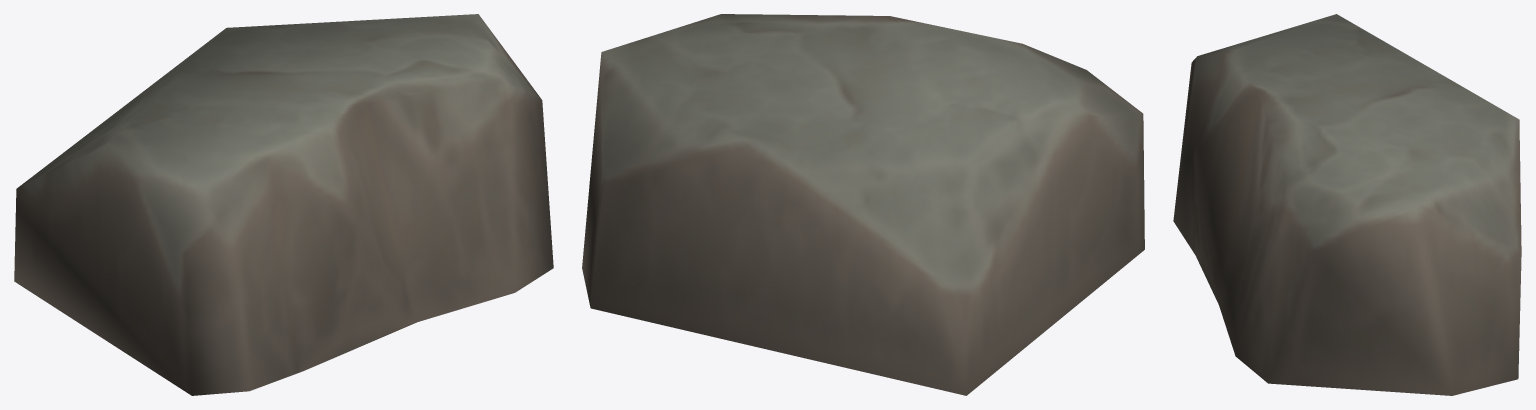
Rendered from SM_FW01_Floor_Debris_05.fbx.
The picture shows the model from 3 angles, left to right: view 1: azimuth 30°, elevation 25°; view 2: azimuth 150°, elevation 25°; view 3: azimuth 270°, elevation 25°; orthographic projection. The views are drawn at different scales.
Visible parts, largest first — view 1: SM_FW01_Floor_Debris_05; view 2: SM_FW01_Floor_Debris_05; view 3: SM_FW01_Floor_Debris_05.
Boxes of the visible parts, box(x1,y1,x2,y2) form: SM_FW01_Floor_Debris_05: box(14, 14, 553, 395); SM_FW01_Floor_Debris_05: box(582, 14, 1144, 395); SM_FW01_Floor_Debris_05: box(1173, 14, 1521, 395).
Bounding box in the file's own units: 0.415 × 0.2132 × 0.3166.
